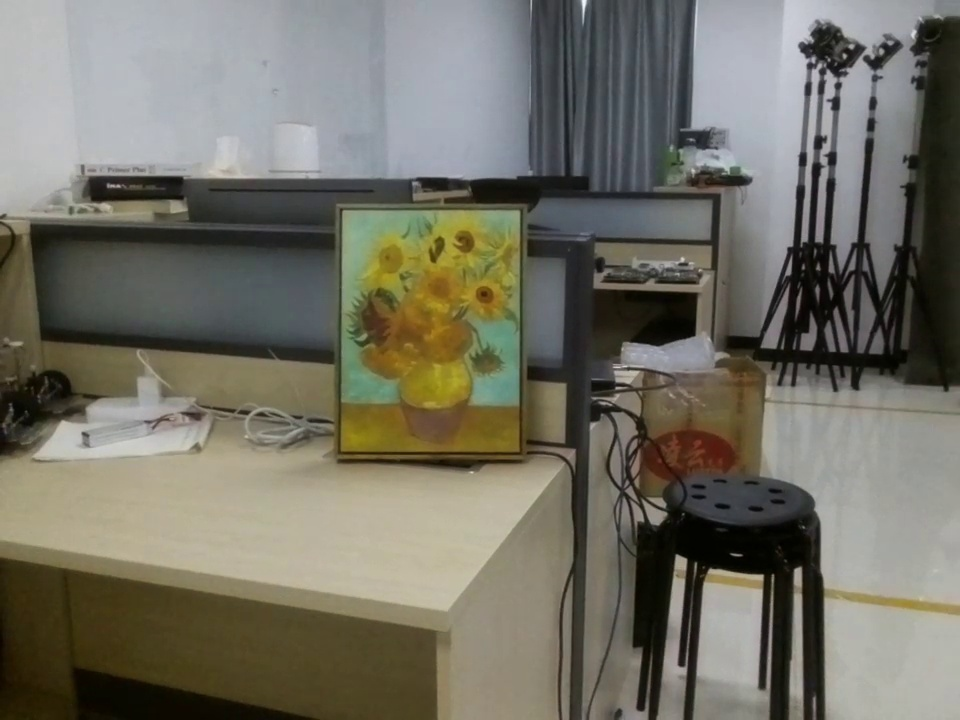painting: (336, 204, 537, 465)
